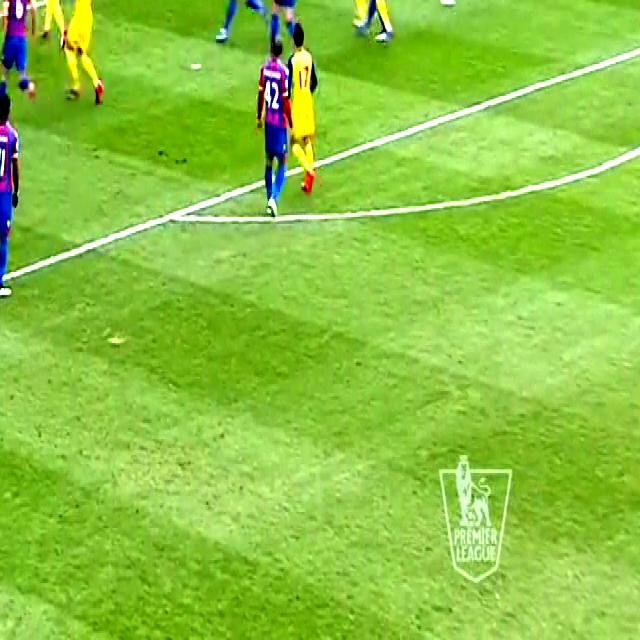referee: (282, 17, 324, 204)
soccer-player: (247, 27, 300, 212), (0, 89, 32, 307), (49, 0, 106, 114), (0, 0, 44, 119), (212, 0, 269, 48), (360, 0, 408, 53), (269, 0, 314, 50), (441, 0, 511, 14)
